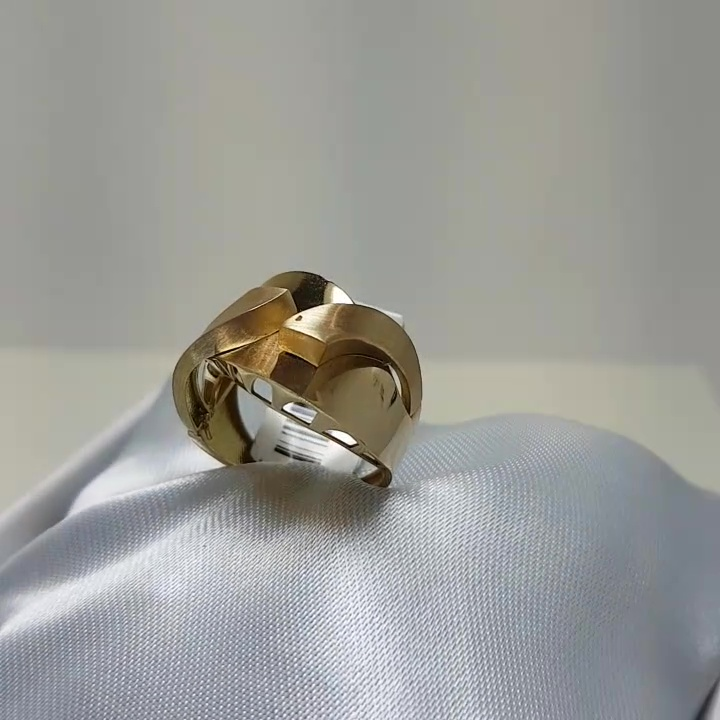Ring 4: (160, 260, 429, 509)
